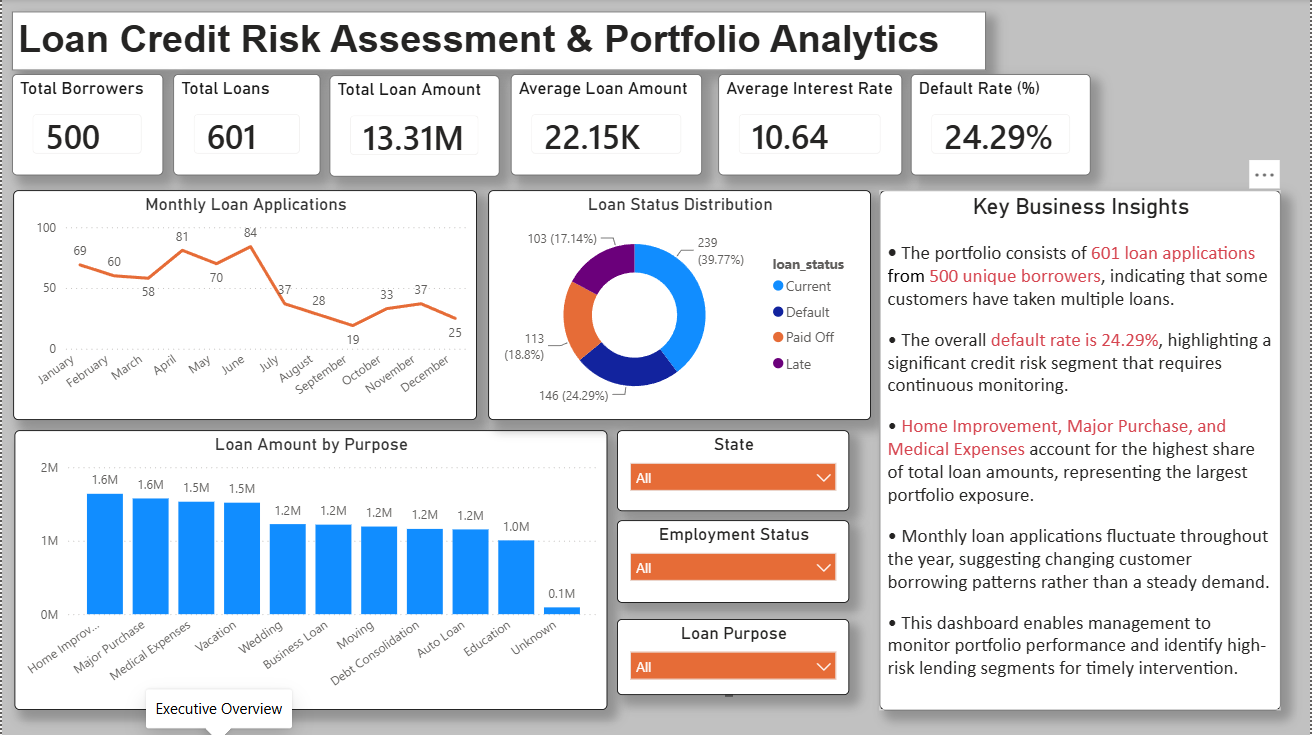

The page's visual inventory and layout, read from the dashboard file:
{"tool":"powerbi","page":{"name":"Executive Overview","canvas":[1280,720],"ordinal":0},"visuals":[{"type":"textbox","box":[10,12.6,952.7,57.7],"z":0},{"type":"cardVisual","title":"Total Borrowers","fields":{"Data":["public borrower_risk_summary.Total Borrowers"]},"box":[9.8,73.4,148,99],"z":1000},{"type":"cardVisual","title":"Total Loans","fields":{"Data":["public borrower_risk_summary.Total Loans"]},"box":[167.5,73.4,144.3,99],"z":2000},{"type":"cardVisual","title":"Total Loan Amount","fields":{"Data":["public borrower_risk_summary.Total Loan Amount"]},"box":[320.4,74.6,166.3,99],"z":3000},{"type":"cardVisual","title":"Average Loan Amount","fields":{"Data":["public borrower_risk_summary.Average Loan Amount"]},"box":[497.7,73.4,187.1,99],"z":4000},{"type":"cardVisual","title":"Average Interest Rate","fields":{"Data":["public borrower_risk_summary.Average Interest Rate"]},"box":[700.7,73.4,179.8,99],"z":5000},{"type":"cardVisual","title":"Default Rate (%)","fields":{"Data":["public borrower_risk_summary.Default Rate"]},"box":[889,73.4,176.1,99],"z":6000},{"type":"lineChart","title":"Monthly Loan Applications","fields":{"Category":["public borrower_risk_summary.application_date.Variation.Date Hierarchy.Month"],"Y":["CountNonNull(public borrower_risk_summary.loan_id)"]},"box":[11,187.1,453.7,225],"z":7000},{"type":"clusteredColumnChart","title":"Loan Amount by Purpose","fields":{"Category":["public borrower_risk_summary.loan_purpose"],"Y":["Sum(public borrower_risk_summary.loan_amount)"]},"box":[12.2,421.9,579.6,273.9],"z":8000},{"type":"donutChart","title":"Loan Status Distribution","fields":{"Category":["public borrower_risk_summary.loan_status"],"Y":["CountNonNull(public borrower_risk_summary.loan_id)"]},"box":[475.7,187.1,374.2,225],"z":9000},{"type":"textbox","title":"Key Business Insights","box":[858.4,187.1,392.5,508.7],"z":10000},{"type":"slicer","title":"State","fields":{"Values":["public borrower_risk_summary.state"]},"box":[601.6,421.9,227.4,79.5],"z":11000},{"type":"slicer","title":"Employment Status","fields":{"Values":["public borrower_risk_summary.employment_status"]},"box":[601.6,509.9,227.4,80.7],"z":12000},{"type":"slicer","title":"Loan Purpose","fields":{"Values":["public borrower_risk_summary.loan_purpose"]},"box":[601.6,606.5,227.4,74.6],"z":13000}]}

Visuals, with their boxes in screenshot pixels (x1, y1, x2, y2), scaled from the page's 1280x720 canvas onto the 1312x735 screenshot:
textbox: {"x1": 10, "y1": 13, "x2": 987, "y2": 72}
"Total Borrowers" cardVisual: {"x1": 10, "y1": 75, "x2": 162, "y2": 176}
"Total Loans" cardVisual: {"x1": 172, "y1": 75, "x2": 320, "y2": 176}
"Total Loan Amount" cardVisual: {"x1": 328, "y1": 76, "x2": 499, "y2": 177}
"Average Loan Amount" cardVisual: {"x1": 510, "y1": 75, "x2": 702, "y2": 176}
"Average Interest Rate" cardVisual: {"x1": 718, "y1": 75, "x2": 903, "y2": 176}
"Default Rate (%)" cardVisual: {"x1": 911, "y1": 75, "x2": 1092, "y2": 176}
"Monthly Loan Applications" lineChart: {"x1": 11, "y1": 191, "x2": 476, "y2": 421}
"Loan Amount by Purpose" clusteredColumnChart: {"x1": 13, "y1": 431, "x2": 607, "y2": 710}
"Loan Status Distribution" donutChart: {"x1": 488, "y1": 191, "x2": 871, "y2": 421}
"Key Business Insights" textbox: {"x1": 880, "y1": 191, "x2": 1282, "y2": 710}
"State" slicer: {"x1": 617, "y1": 431, "x2": 850, "y2": 512}
"Employment Status" slicer: {"x1": 617, "y1": 521, "x2": 850, "y2": 603}
"Loan Purpose" slicer: {"x1": 617, "y1": 619, "x2": 850, "y2": 695}
